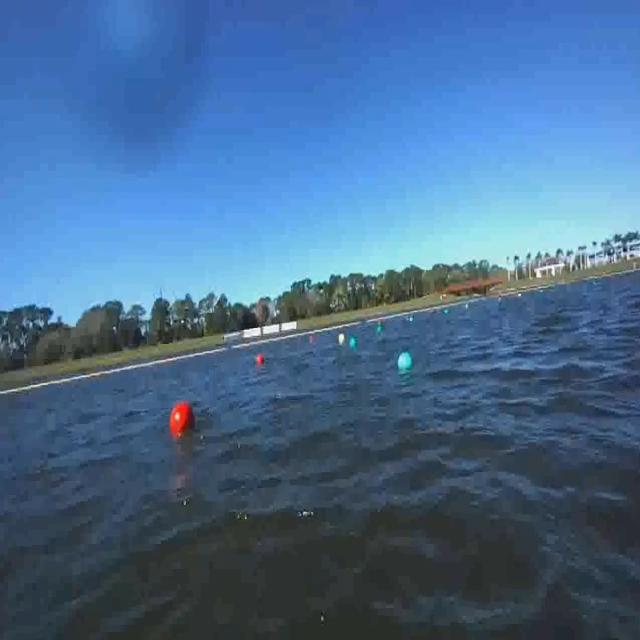green-buoy: (399, 351, 414, 372), (350, 338, 358, 350), (377, 326, 383, 334)
red-buoy: (170, 401, 198, 439), (256, 354, 264, 366), (260, 354, 266, 366)
yellow-buoy: (339, 335, 346, 345)
